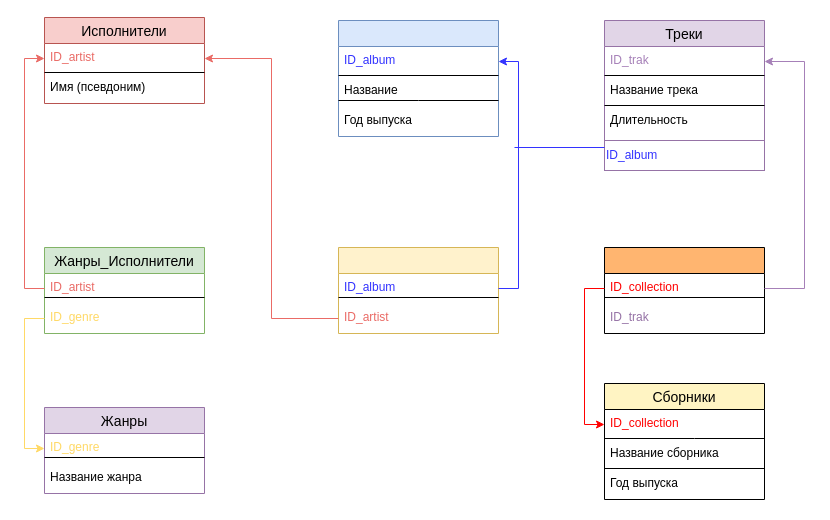
This 830x520 diagram has some shape labels left out. Each missing label, with the box of its shape:
Альбом: (338, 20, 498, 136)
Альбомы_Исполнители: (338, 246, 498, 334)
Сборники_Исполнители: (604, 246, 764, 334)
